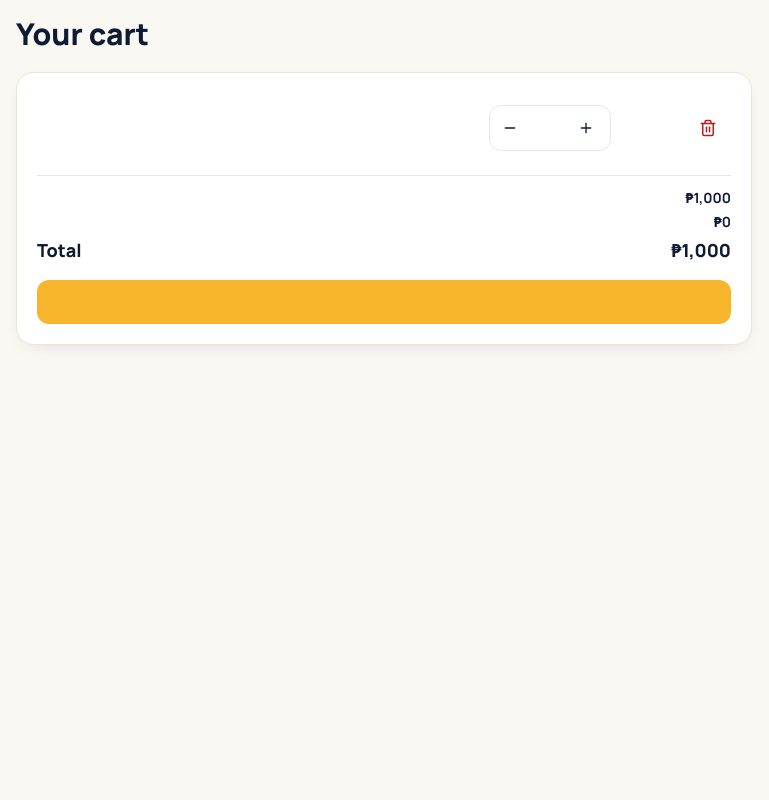
it: keeps cart on network failure and shows receipt after retry
Click the button "Proceed to Checkout".
click(384, 302)  # box 37,280 -> 731,324
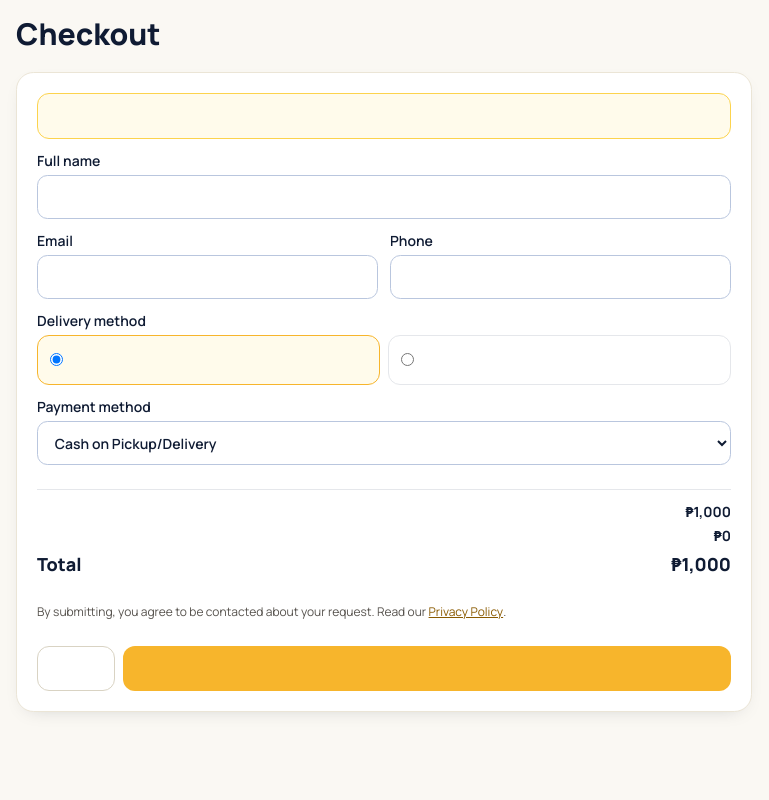
Type "Test" into the field labelled "Full name".
click(384, 197); type("Test")  # box 37,175 -> 731,219
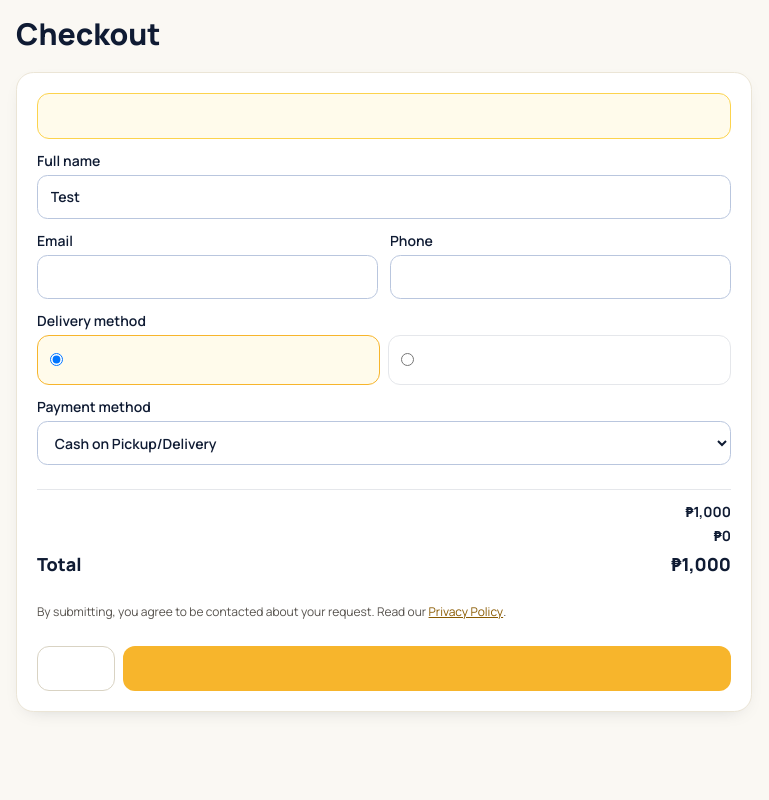
Type "test@example.ph" into the field labelled "Email".
click(208, 277); type("test@example.ph")  # box 37,255 -> 378,299
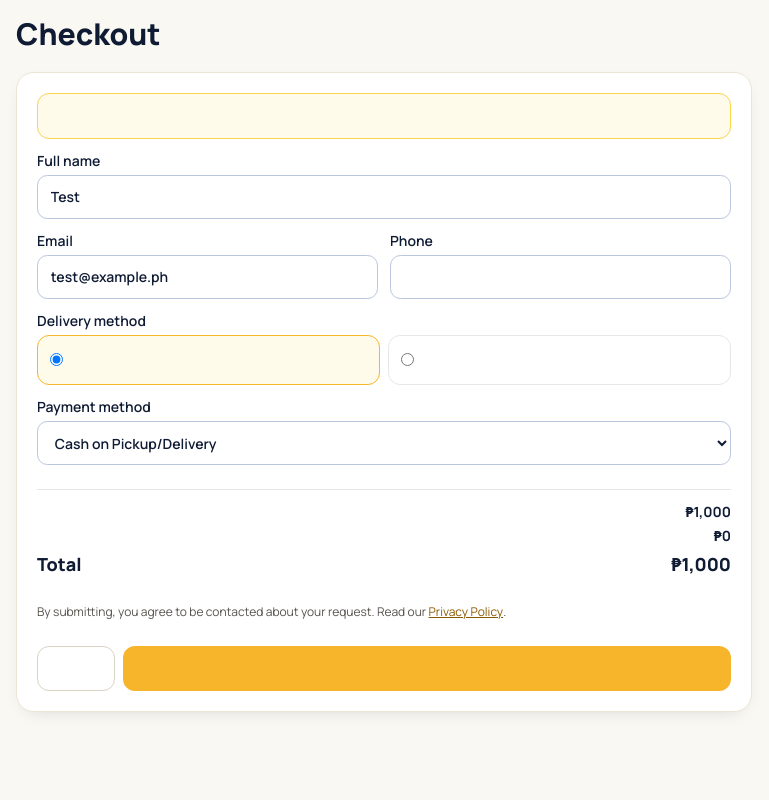
Type "09171234567" into the field labelled "Phone".
click(560, 277); type("09171234567")  # box 390,255 -> 731,299
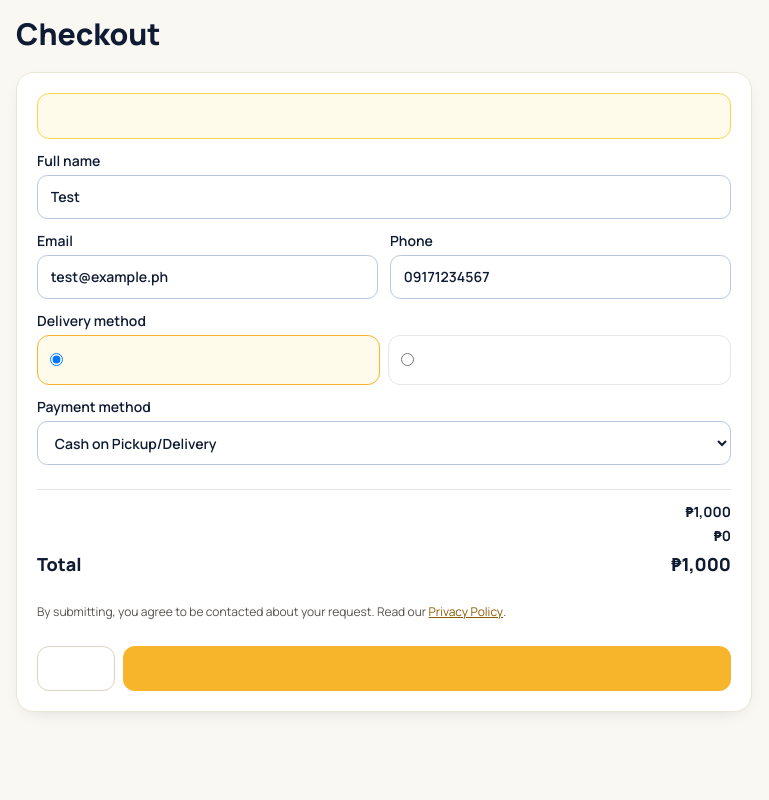
Click the button "Place Order".
click(427, 669)  # box 122,646 -> 731,691
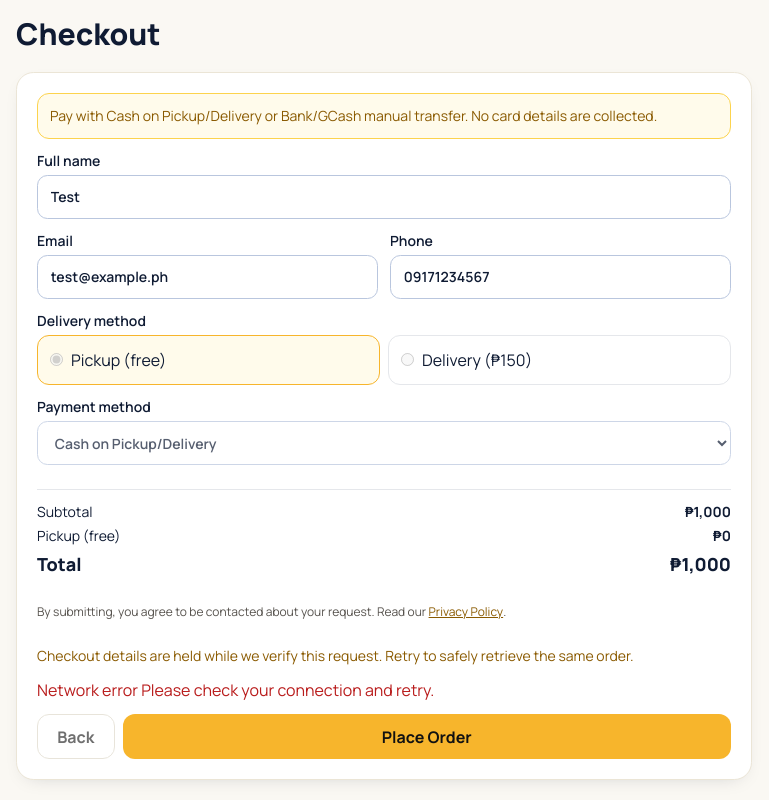
Check: the message "Network error Please check your connection and retry." is shown, box 37,679 -> 434,701
Click the button "Place Order".
click(427, 737)  # box 122,714 -> 731,759
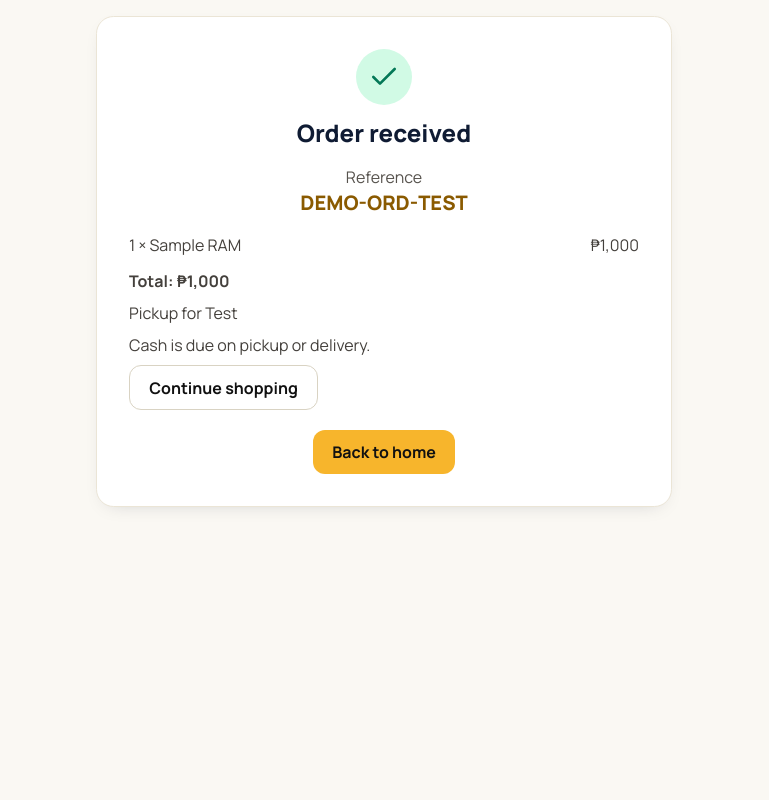
Check: the text "DEMO-ORD-TEST" is shown, box 300,189 -> 468,216
